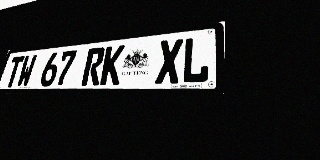6: (39, 52, 62, 87)
7: (54, 50, 77, 86)
K: (99, 45, 125, 85)
L: (181, 35, 210, 83)
R: (81, 47, 106, 86)
T: (4, 56, 25, 87)
W: (16, 54, 37, 87)
X: (155, 38, 183, 84)
